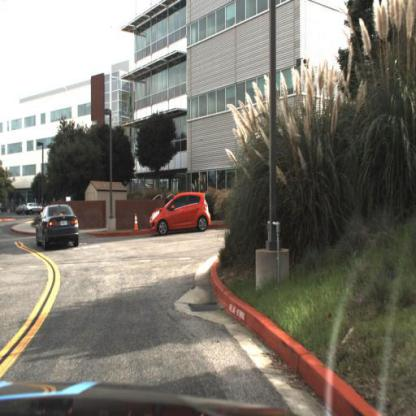car: (148, 191, 212, 239), (36, 202, 80, 252)
